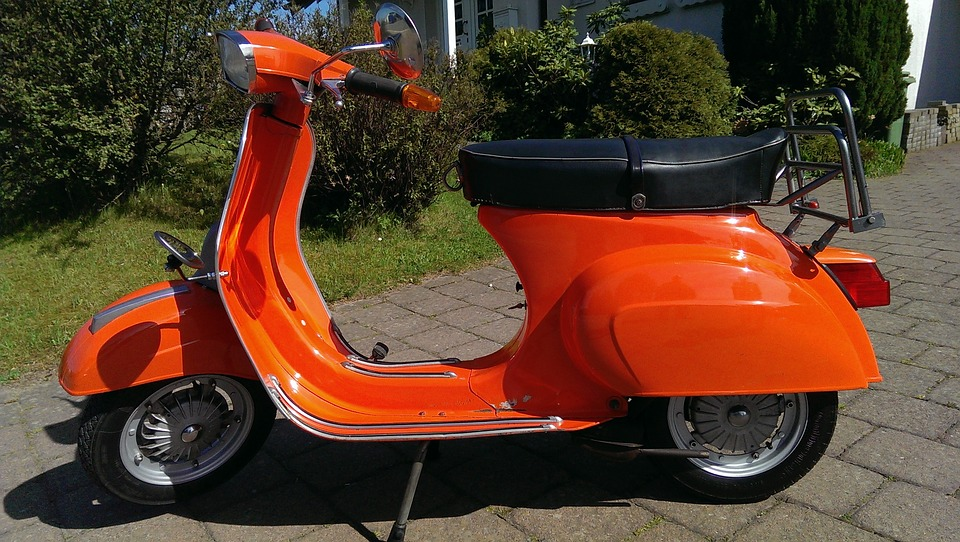motorcycle: (78, 30, 869, 512)
